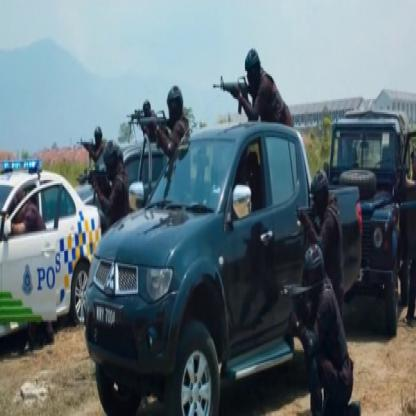Guns: (124, 102, 174, 136), (212, 73, 254, 112), (282, 278, 315, 315), (293, 198, 319, 230), (80, 165, 112, 190), (77, 134, 100, 155), (398, 160, 412, 178)
